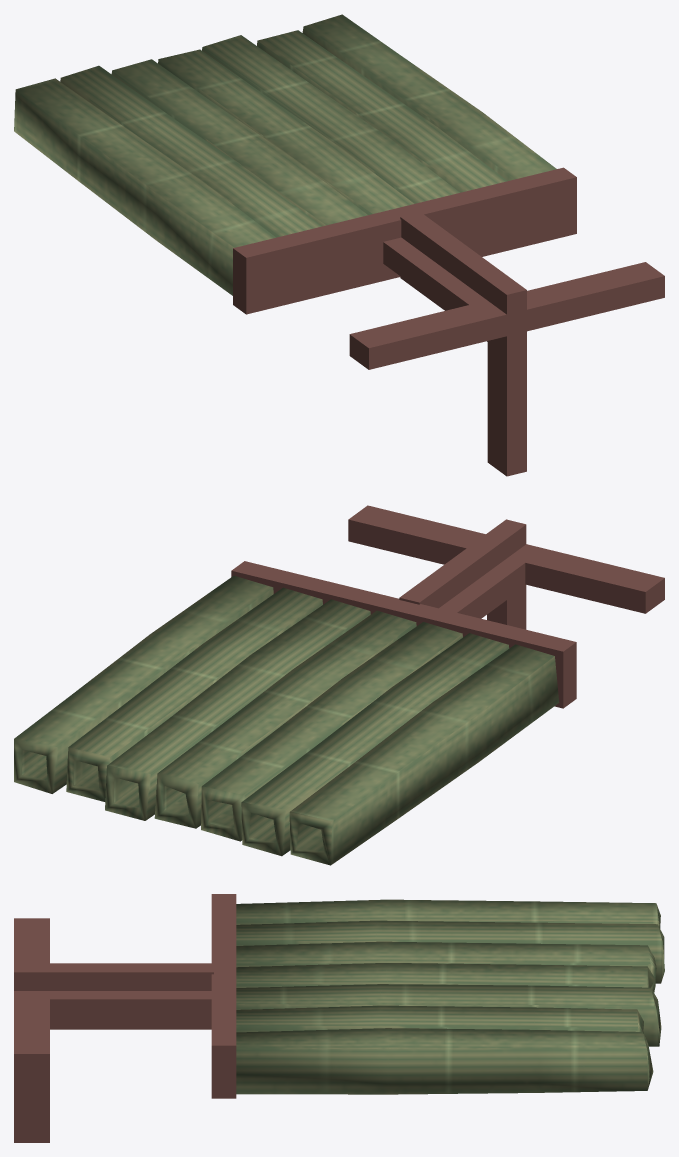
Rendered from makiwara_mid_7.glb.
3 renders of one model, top to bottom at view 1: azimuth 30°, elevation 25°; view 2: azimuth 150°, elevation 25°; view 3: azimuth 270°, elevation 25°, orthographic. The views are drawn at different scales.
Visible parts, largest first — view 1: Obstacledd.001, Stand.015; view 2: Obstacledd.001, Stand.015; view 3: Obstacledd.001, Stand.015.
Boxes of the visible parts, x1,y1,x2,y2 form: Obstacledd.001: (14, 14, 556, 295); Stand.015: (233, 167, 664, 476); Obstacledd.001: (14, 575, 559, 865); Stand.015: (231, 505, 664, 708); Obstacledd.001: (236, 899, 664, 1094); Stand.015: (14, 894, 236, 1142).
Bounding box in the file's own units: 1.45 × 0.7591 × 2.63.
Materials: 2 (1 with a texture image).
